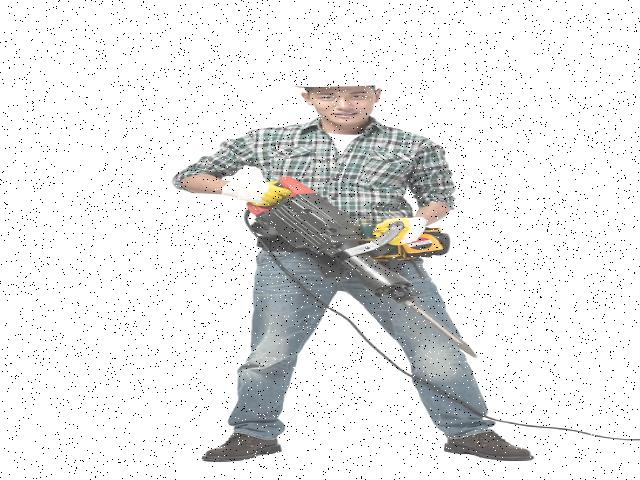Helmet: (284, 53, 392, 97)
